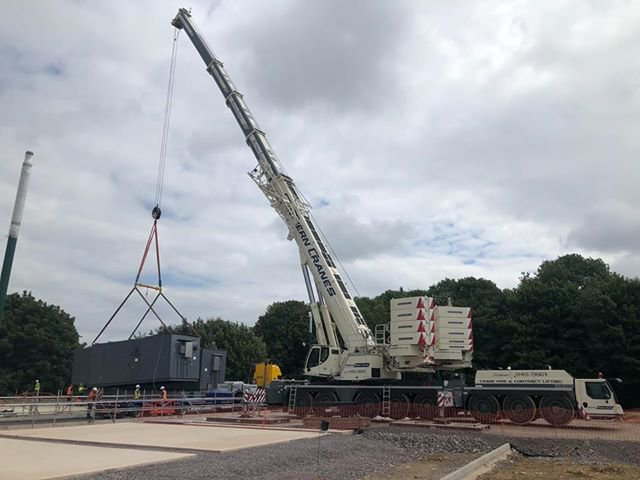crane: (169, 6, 625, 430)
